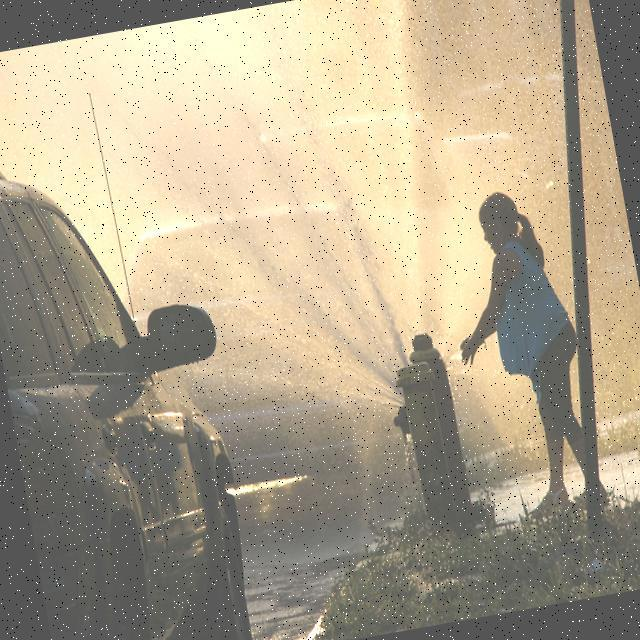fire_hydrant: (378, 328, 474, 533)
